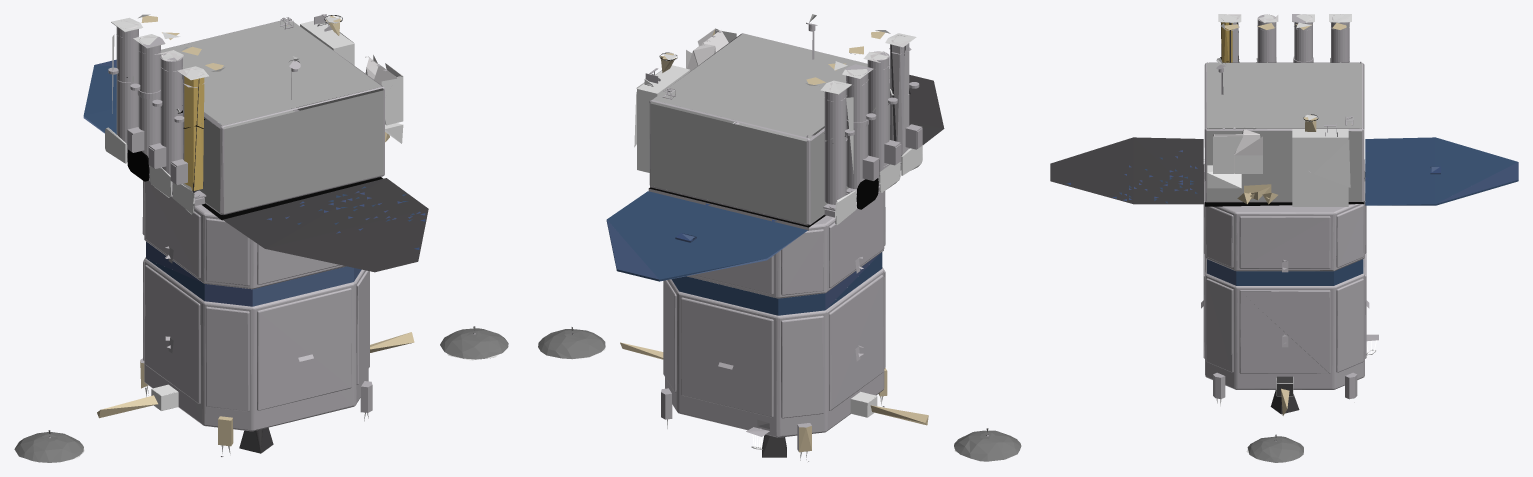
File: sdo.glb
3 renders of one model, left to right at view 1: azimuth 30°, elevation 25°; view 2: azimuth 150°, elevation 25°; view 3: azimuth 270°, elevation 25°, orthographic. The views are drawn at different scales.
Parts seen in each view (by area): view 1: Fake; view 2: Fake; view 3: Fake.
Part boxes in pixels (bbox=[...]): Fake: bbox=[14, 14, 508, 462]; Fake: bbox=[538, 14, 1021, 461]; Fake: bbox=[1050, 14, 1518, 462].
Size of the model in its own units: 37.02 by 30.71 by 37.03.
